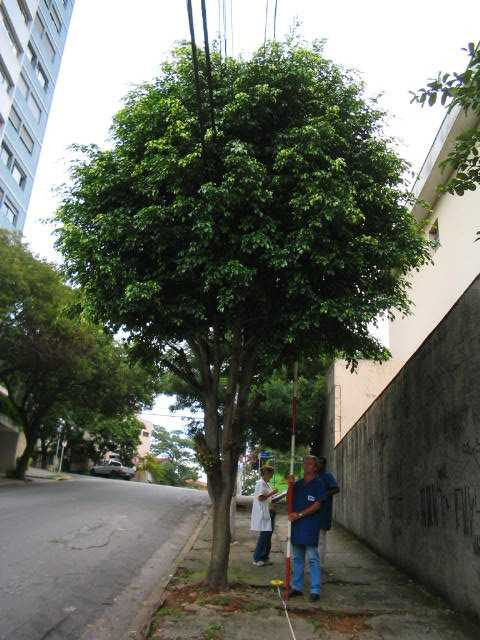crown: (48, 17, 436, 415), (4, 227, 106, 410)
stem: (195, 493, 236, 592), (9, 438, 35, 478)
stick: (280, 362, 302, 600)
tree: (45, 15, 439, 592), (1, 226, 105, 479)
